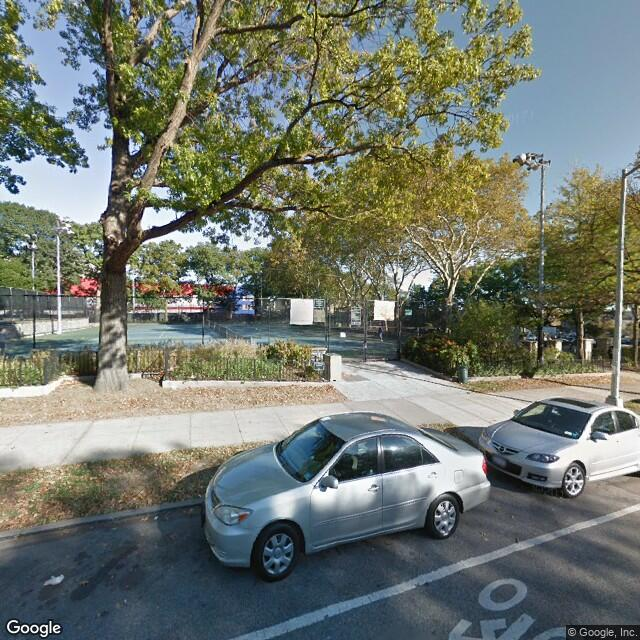litter: (44, 575, 67, 585), (31, 512, 39, 517), (152, 514, 158, 519)
